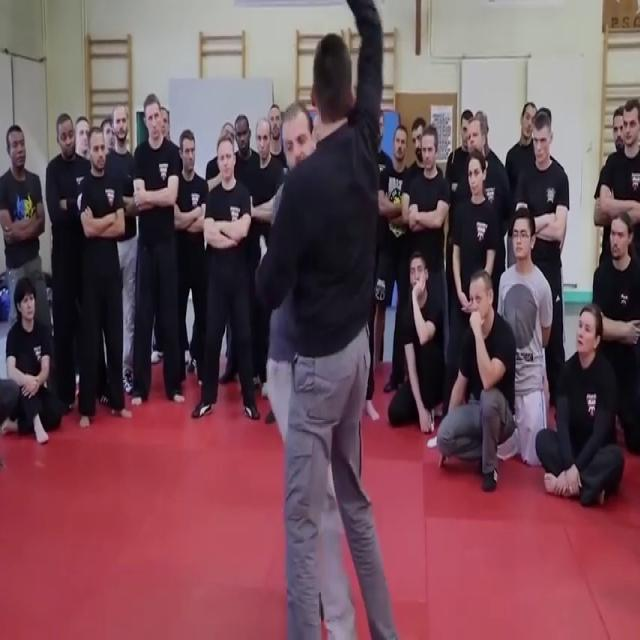fight: (253, 0, 399, 640)
non-fight: (504, 100, 571, 404), (190, 134, 256, 424), (432, 266, 517, 489), (534, 303, 626, 508), (74, 126, 133, 433), (445, 147, 512, 415), (130, 92, 186, 407), (42, 112, 92, 414), (494, 204, 550, 471), (586, 211, 640, 456), (0, 121, 54, 337), (384, 244, 445, 432), (0, 280, 61, 446), (172, 124, 209, 384), (398, 121, 448, 270), (597, 96, 640, 266)
